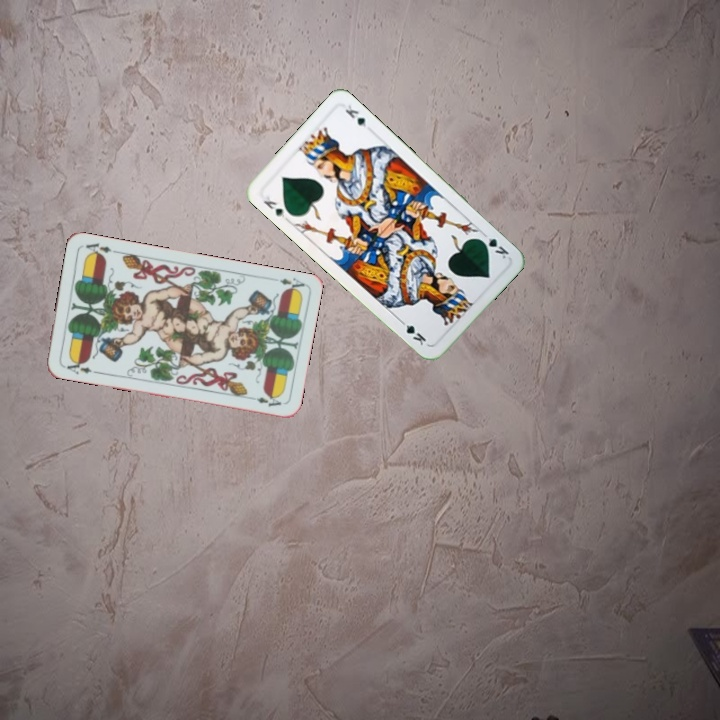EA: (63, 356, 99, 377), (275, 274, 307, 295)
GK: (475, 233, 512, 261), (259, 192, 288, 221)
